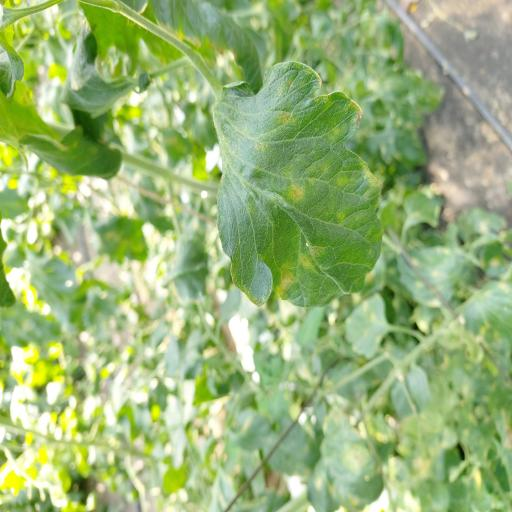Leaf Mold: (212, 60, 382, 307)
